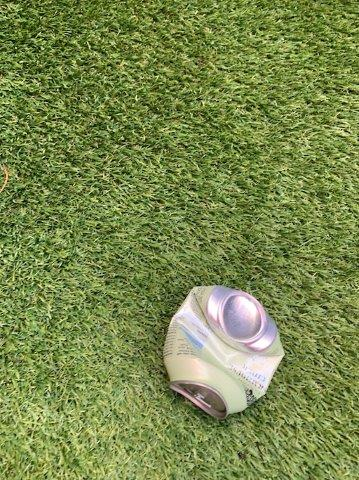kaleng: (164, 285, 284, 419)
